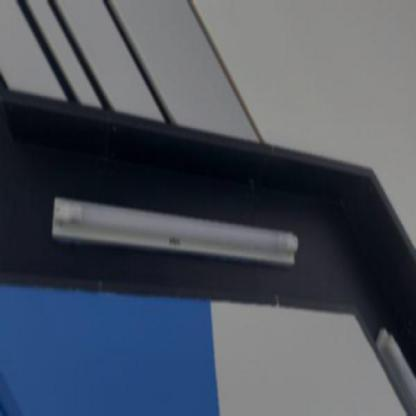light_off: (42, 179, 304, 282), (370, 310, 416, 415)
